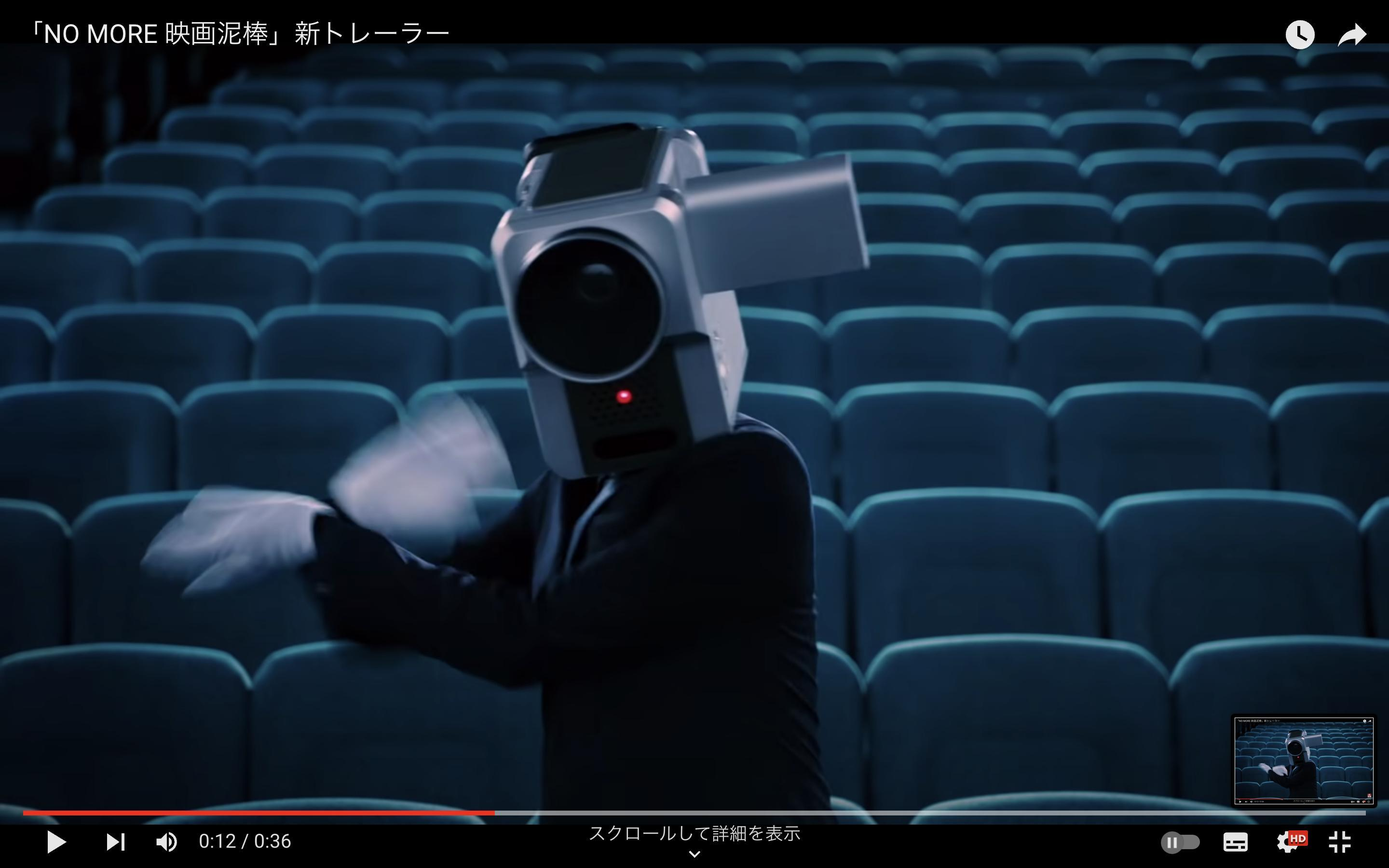no more kid: (474, 92, 895, 505)
